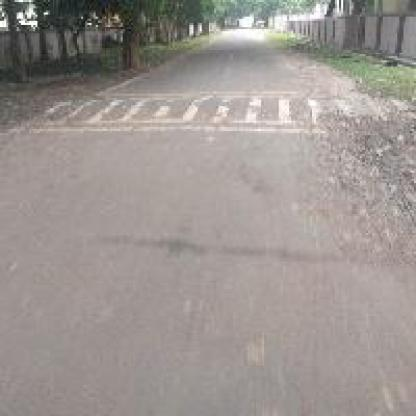Speed Bump: (23, 92, 395, 133)
